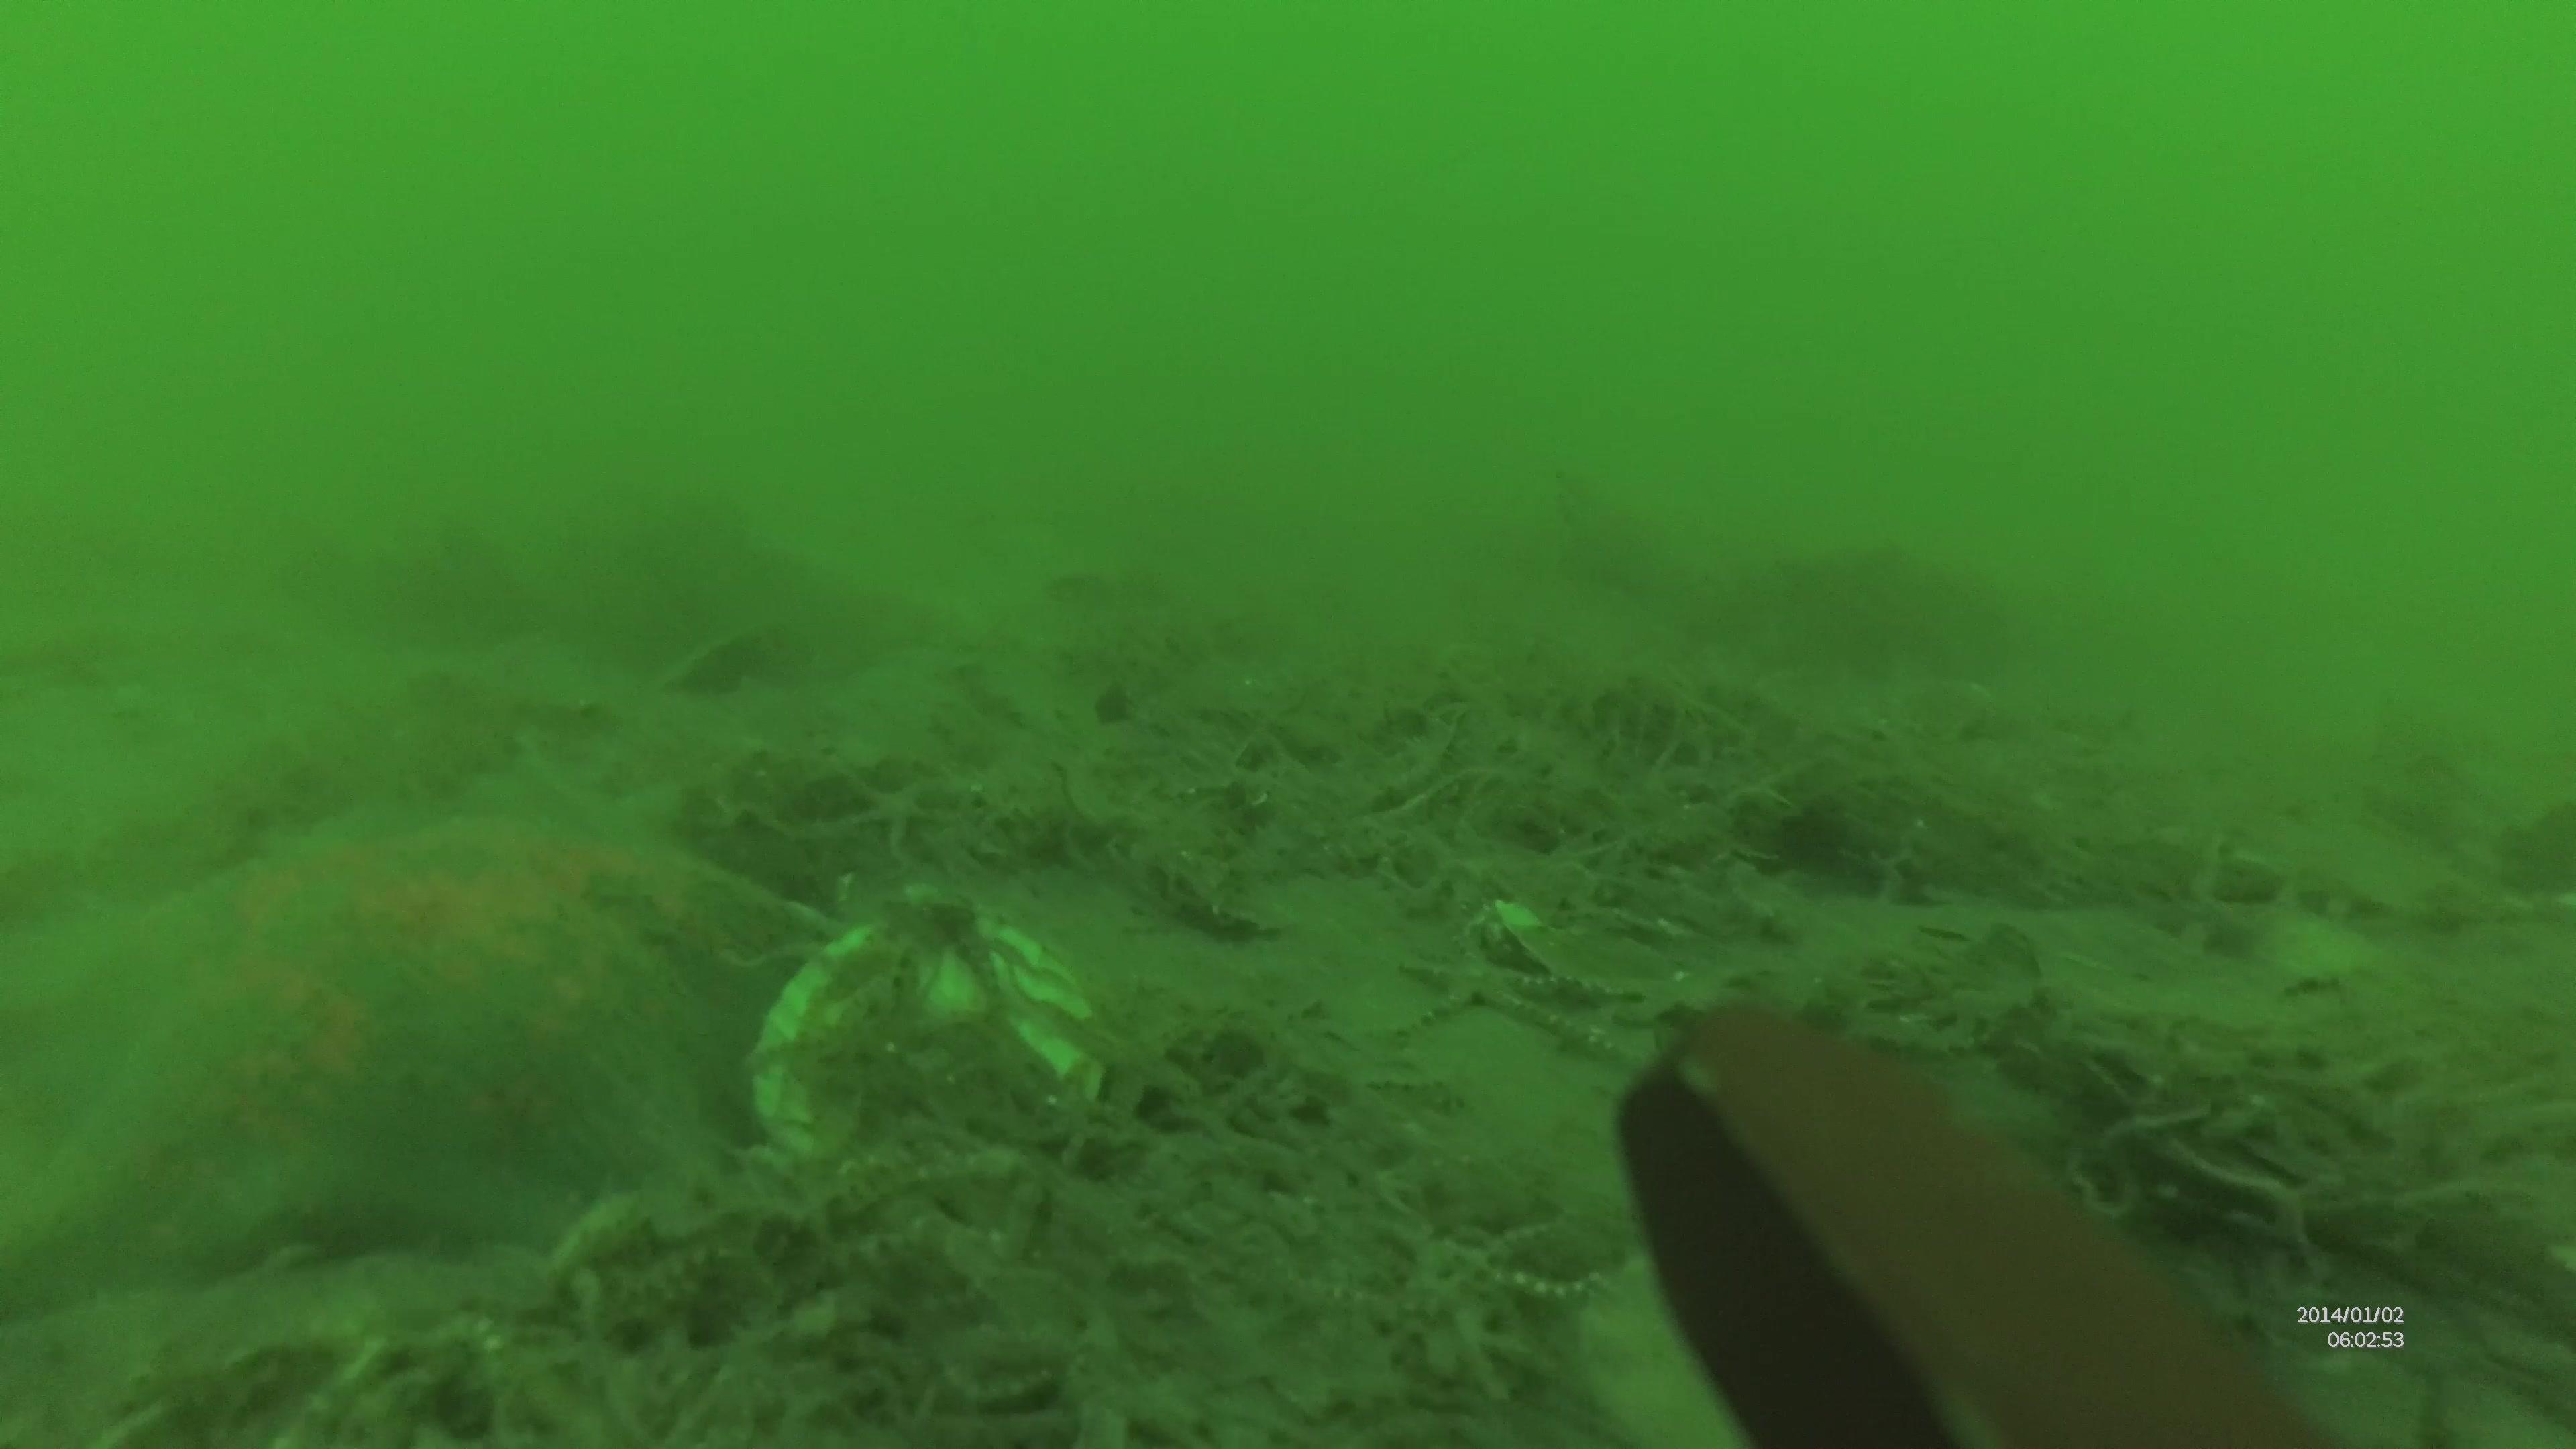scallop: (757, 888, 1106, 1161)
starfish: (0, 740, 849, 1306), (1399, 932, 1633, 1079), (824, 747, 952, 855)
